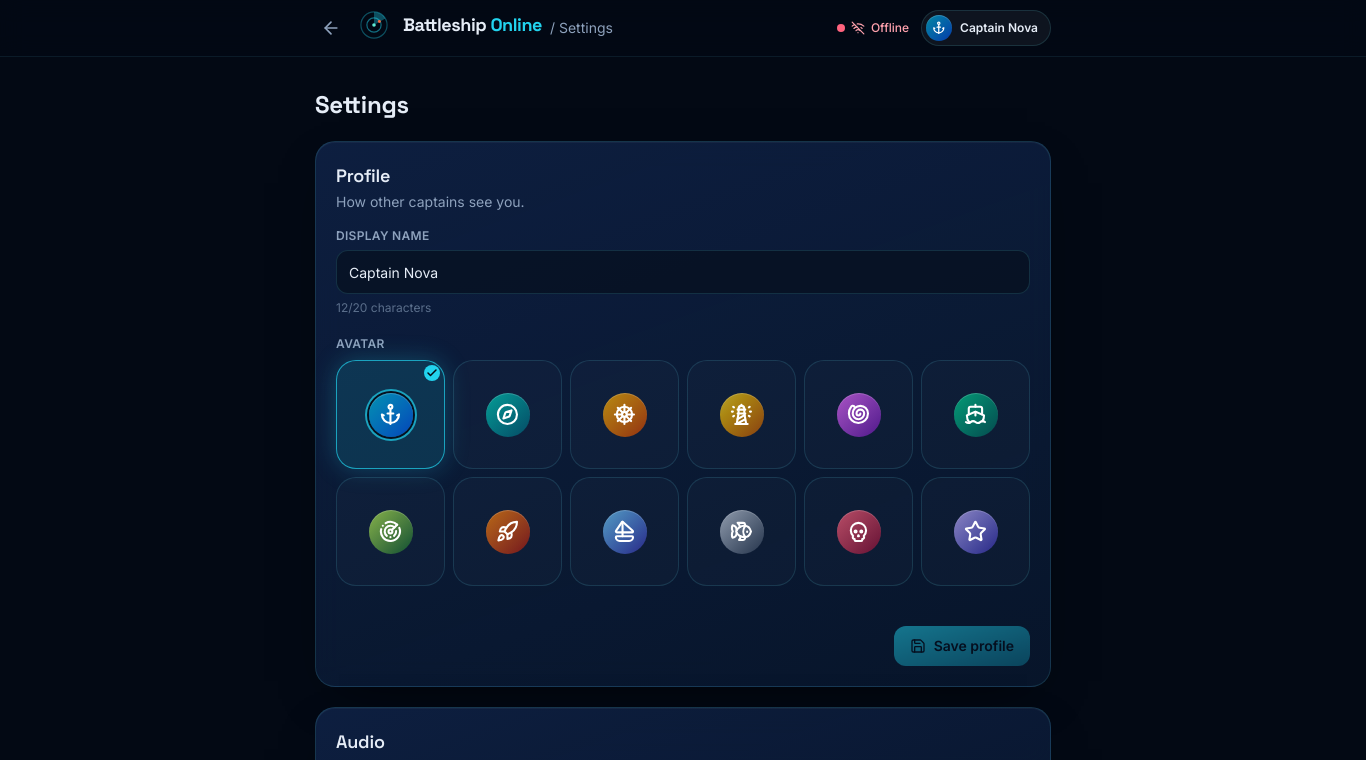
Test: SettingsScreen › shows a validation error instead of saving an invalid display name
Replace the text in the field labelled "Display name 12/20 characters" with "x". click: x=683, y=272
box: [349,251,1017,293]
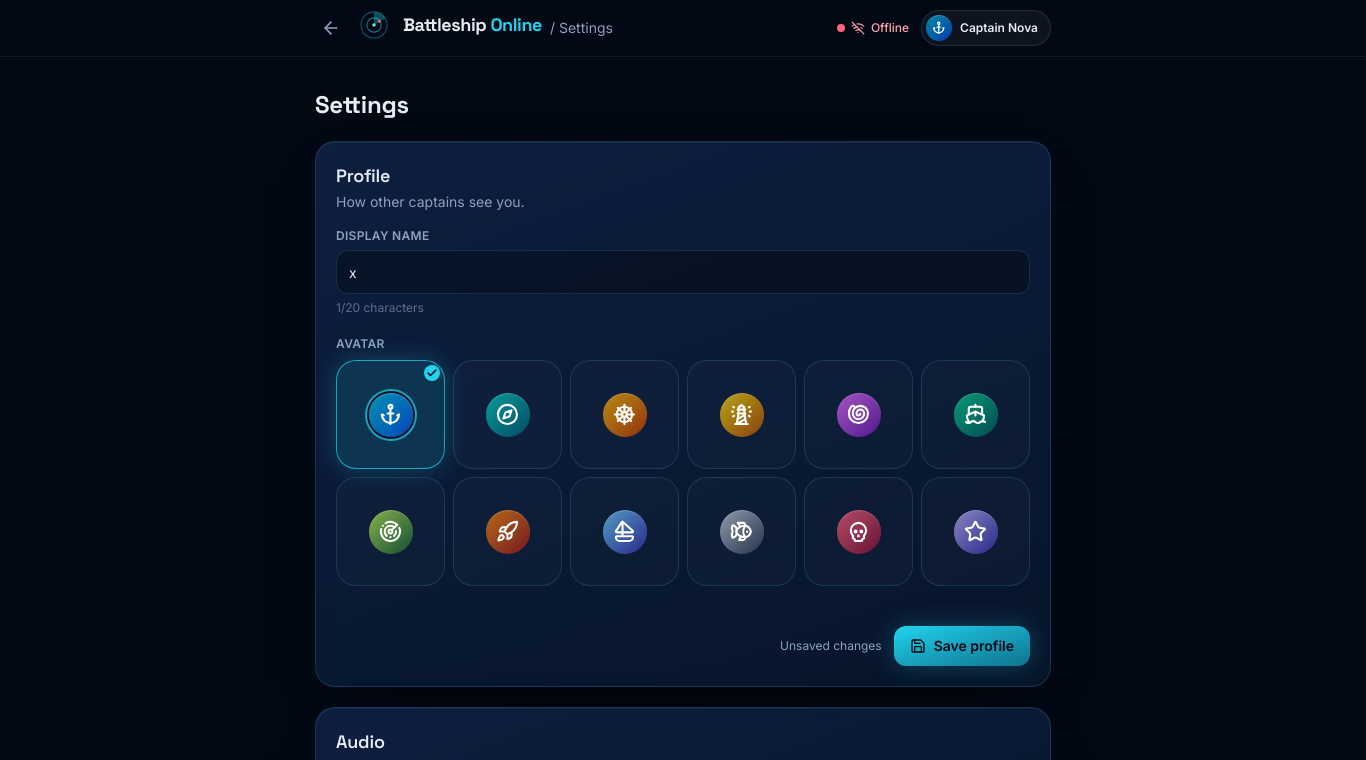
Click the button "Save profile". click: x=962, y=646
box: [894,626,1030,666]
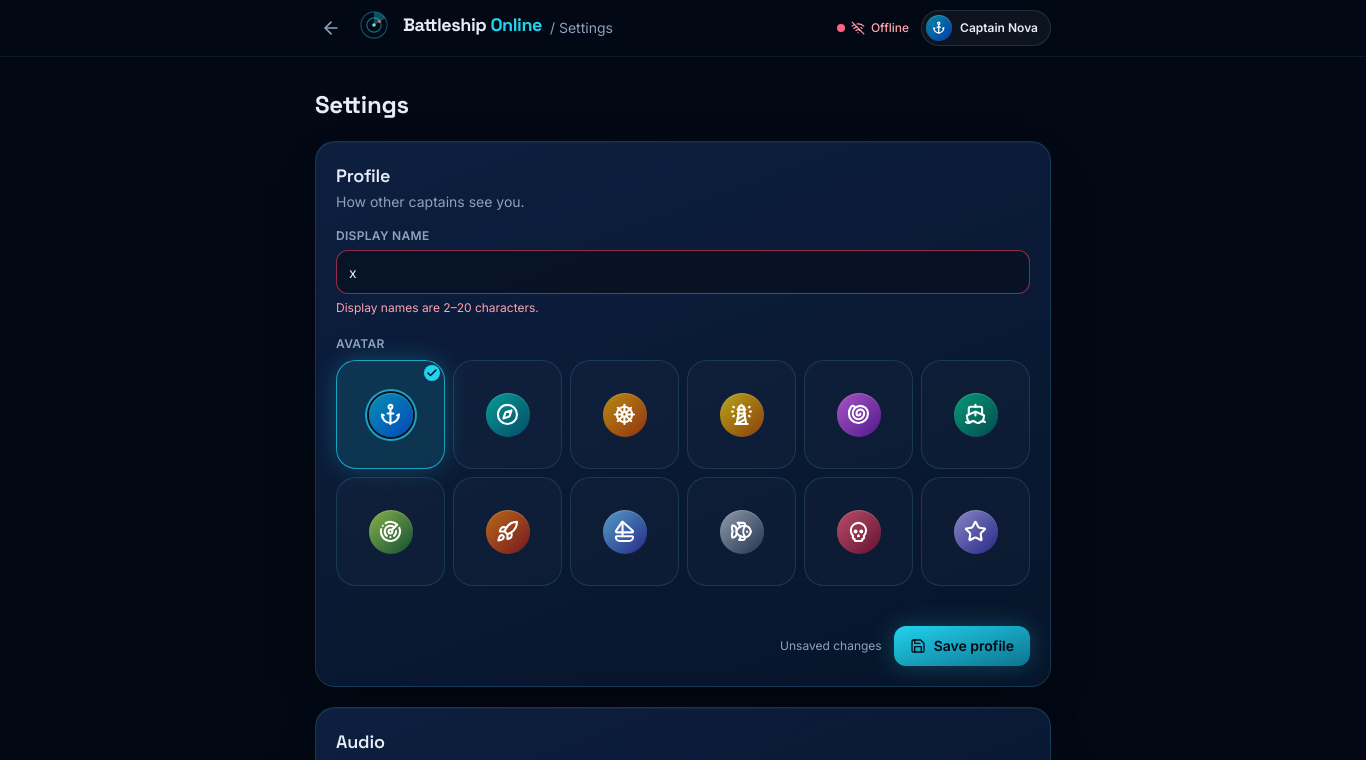
Now the text "Display names are 2–20 characters." is shown, box [336,300,539,315]
